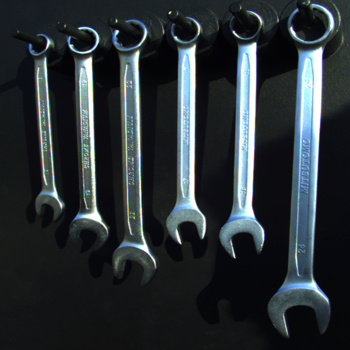bottom: (261, 279, 333, 339), (109, 238, 158, 289), (215, 213, 267, 261), (161, 202, 208, 248), (66, 211, 111, 252), (31, 188, 65, 223)
top: (283, 1, 338, 50), (109, 17, 152, 57), (225, 8, 267, 45), (65, 25, 102, 58), (167, 16, 204, 48), (24, 31, 56, 60)
